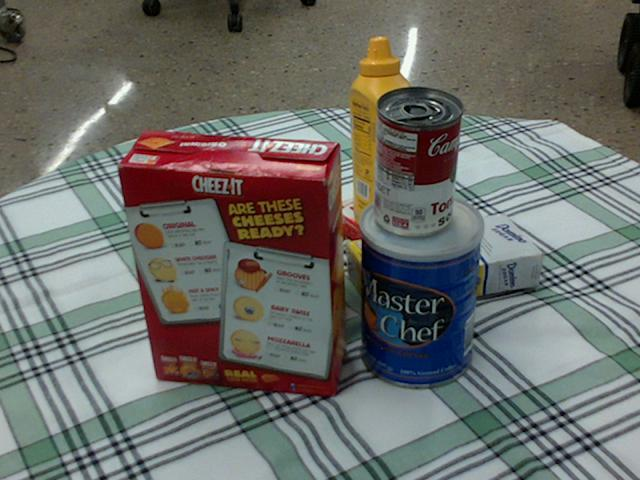cracker_box: (112, 132, 346, 394)
gelatin_box: (329, 183, 431, 254)
master_chef_can: (360, 189, 484, 388)
mug: (246, 208, 345, 325)
mustard_bottle: (349, 37, 418, 237)
potted_meat_can: (155, 229, 255, 325)
sugar_box: (347, 210, 543, 317)
tomato_soup_can: (372, 86, 461, 236)
tuna_fish_can: (161, 197, 252, 273)
